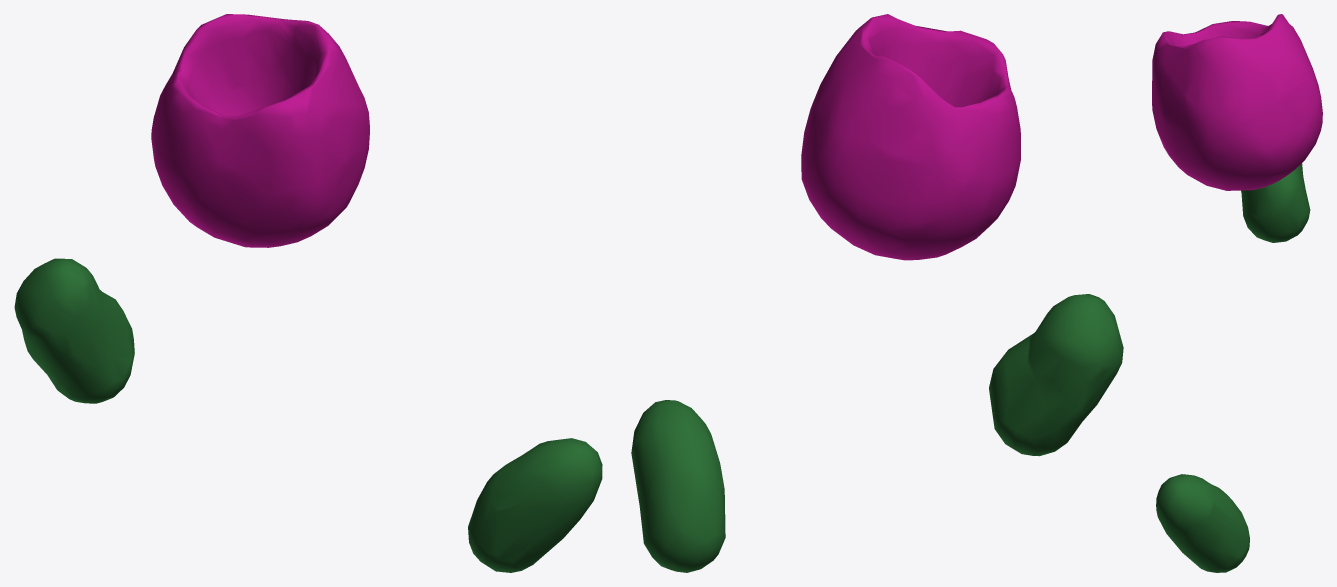
File: ss_petals3.gltf
3 renders of one model, left to right at view 1: azimuth 30°, elevation 25°; view 2: azimuth 150°, elevation 25°; view 3: azimuth 270°, elevation 25°, orthographic. The views are drawn at different scales.
Parts seen in each view (by area): view 1: Layer_1.003; view 2: Layer_1.003; view 3: Layer_1.003.
Boxes of the visible parts, bbox=[...] form: Layer_1.003: bbox=[14, 14, 602, 572]; Layer_1.003: bbox=[631, 14, 1123, 572]; Layer_1.003: bbox=[1152, 14, 1322, 572].
Size of the model in its own units: 1.02 by 1.1 by 0.369.
